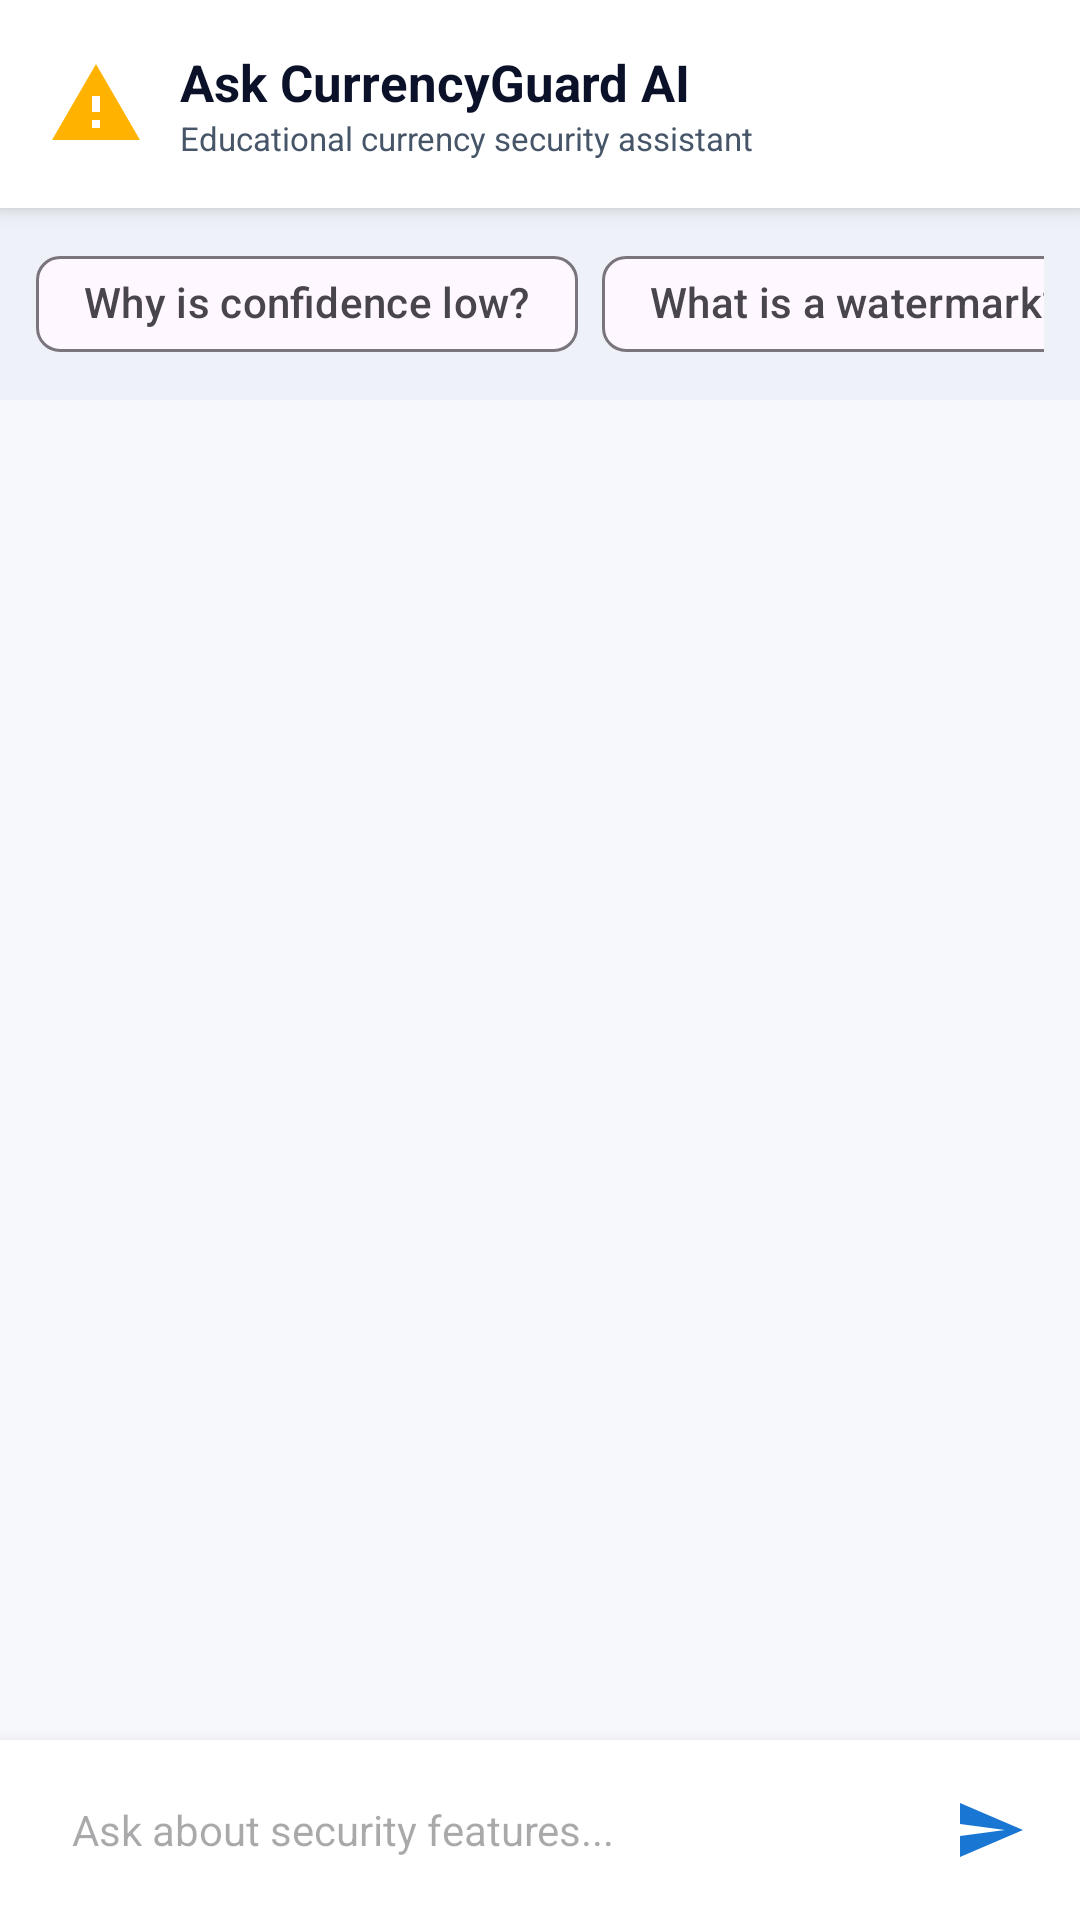

Locate icon controls on the screen. Image size 1080px×1920px, boxes as BBox(x1, y1, x2, y2).
send: BBox(960, 1803, 1023, 1857)
